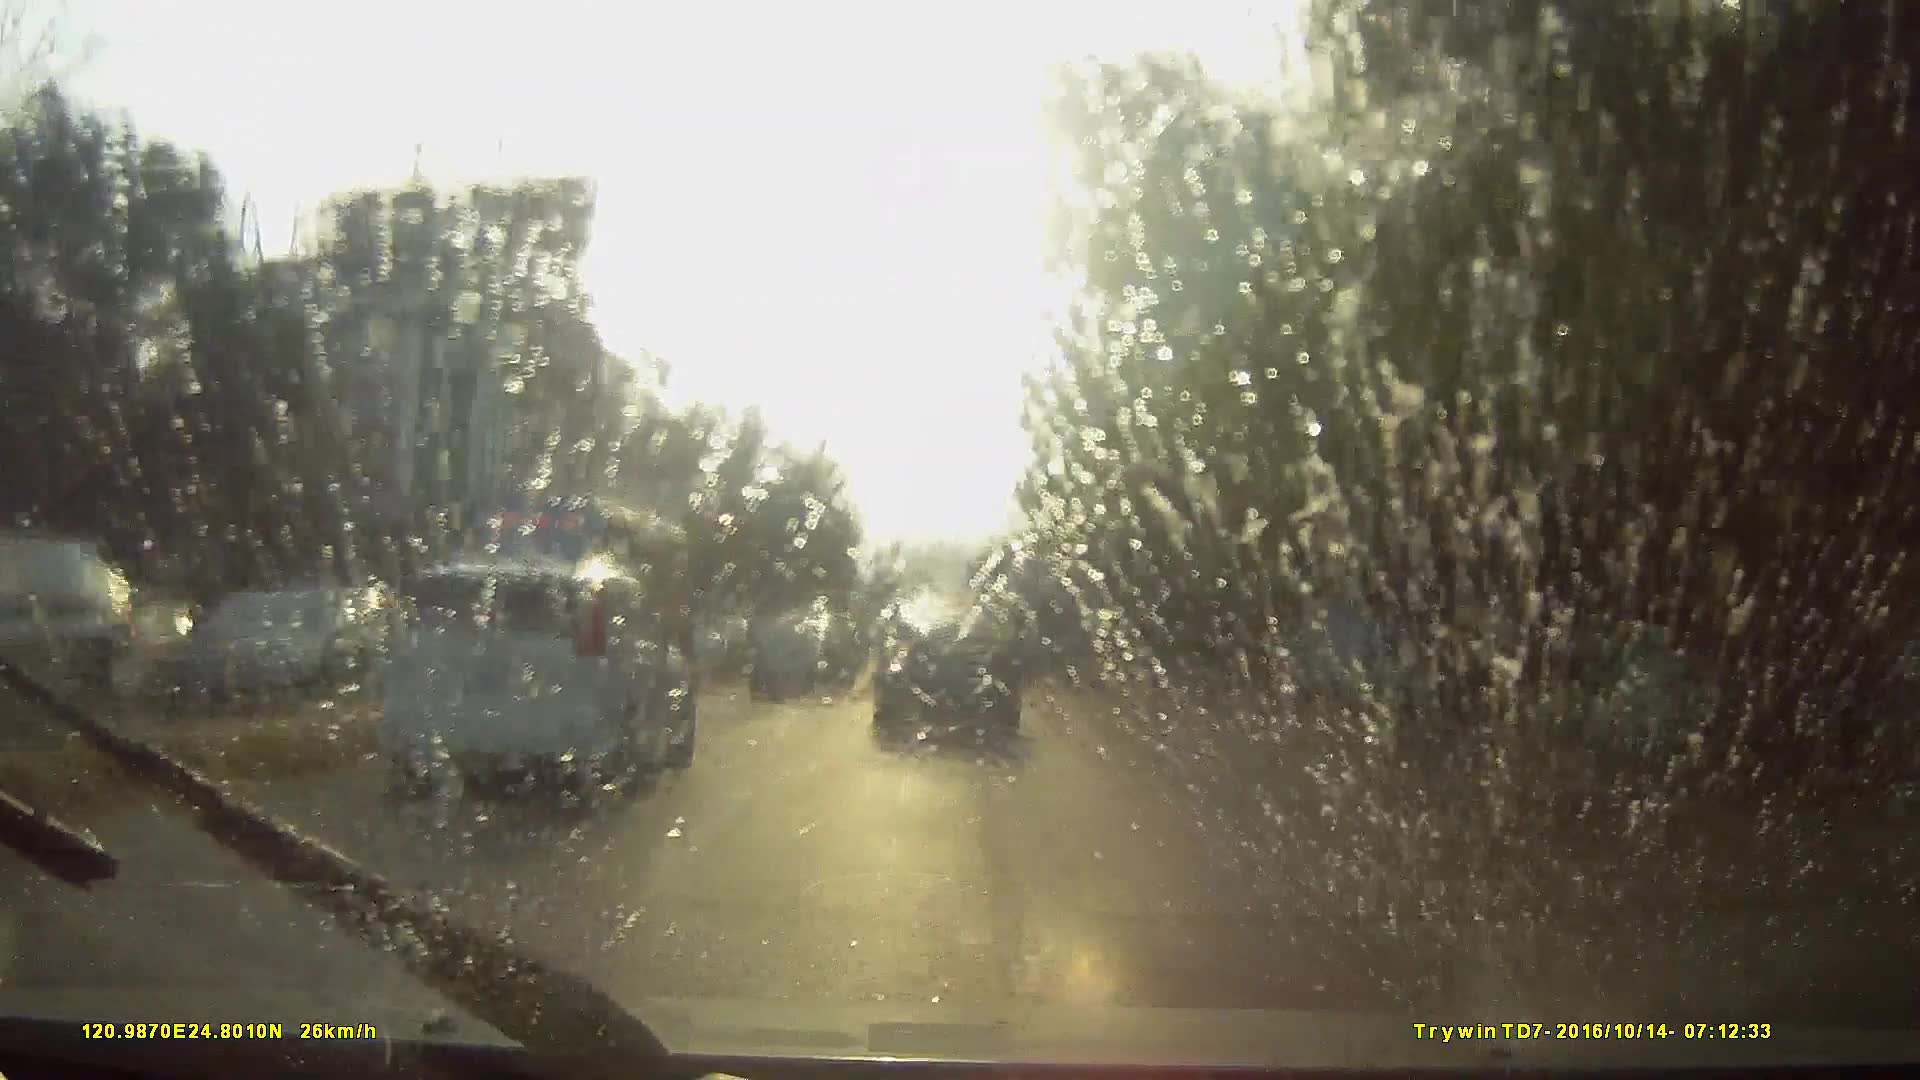vehicle: (251, 556, 684, 868), (386, 549, 699, 793), (430, 483, 716, 684), (873, 599, 1022, 754), (998, 559, 1102, 684), (738, 613, 847, 699), (866, 638, 915, 687)
